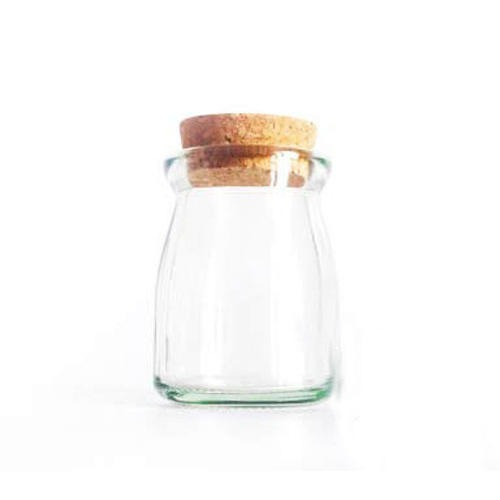container: (143, 106, 344, 414)
